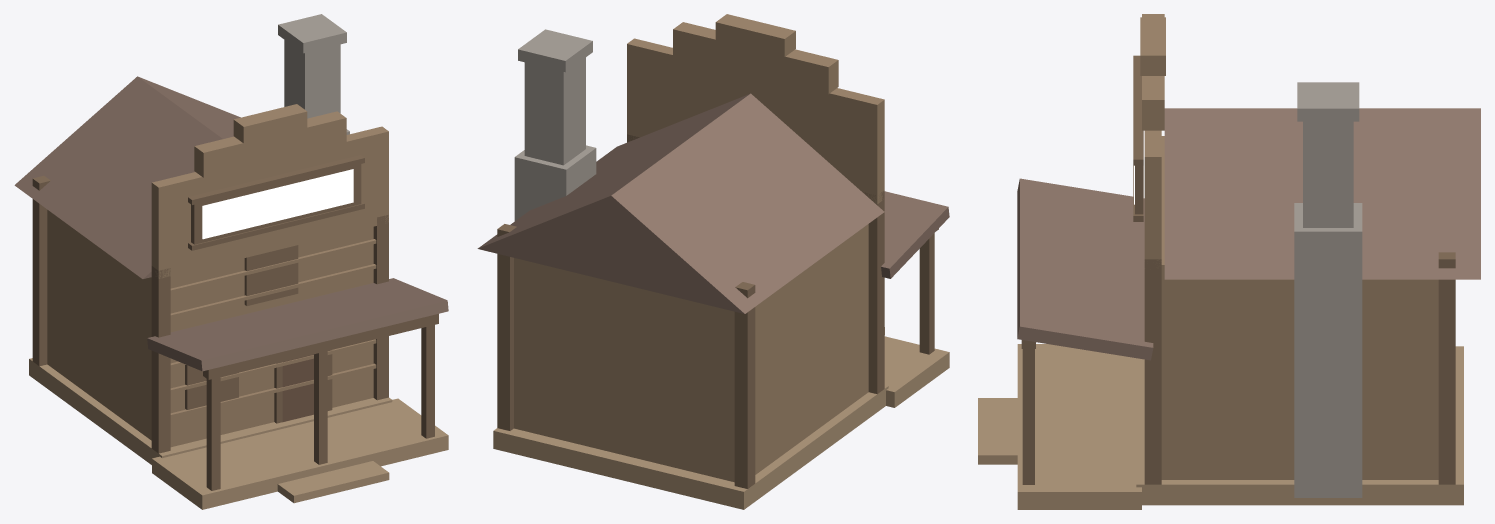
The model's file is house.glb.
3 renders of one model, left to right at view 1: azimuth 30°, elevation 25°; view 2: azimuth 150°, elevation 25°; view 3: azimuth 270°, elevation 25°, orthographic. The views are drawn at different scales.
Parts seen in each view (by area): view 1: House_Walls, House_Roof, House_Trims, House_Deck, House_Chimney, House_Windows, House_Door; view 2: House_Walls, House_Roof, House_Deck, House_Trims, House_Chimney; view 3: House_Roof, House_Walls, House_Deck, House_Chimney, House_Trims.
Part boxes in pixels (x1,y1,x2,y2): House_Walls: (47, 104, 388, 447); House_Roof: (14, 76, 448, 371); House_Trims: (32, 155, 438, 490); House_Deck: (29, 358, 448, 509); House_Chimney: (278, 14, 349, 134); House_Windows: (202, 169, 353, 239); House_Door: (282, 354, 313, 421); House_Walls: (514, 14, 884, 482); House_Roof: (477, 93, 949, 313); House_Deck: (493, 327, 949, 509); House_Trims: (497, 134, 938, 488); House_Chimney: (514, 29, 596, 220); House_Roof: (1017, 108, 1480, 360); House_Walls: (1140, 14, 1438, 479); House_Deck: (978, 344, 1463, 509); House_Chimney: (1294, 82, 1362, 497); House_Trims: (1021, 55, 1455, 484).
Bounding box in the file's own units: 6.55 × 7.97 × 8.9.
